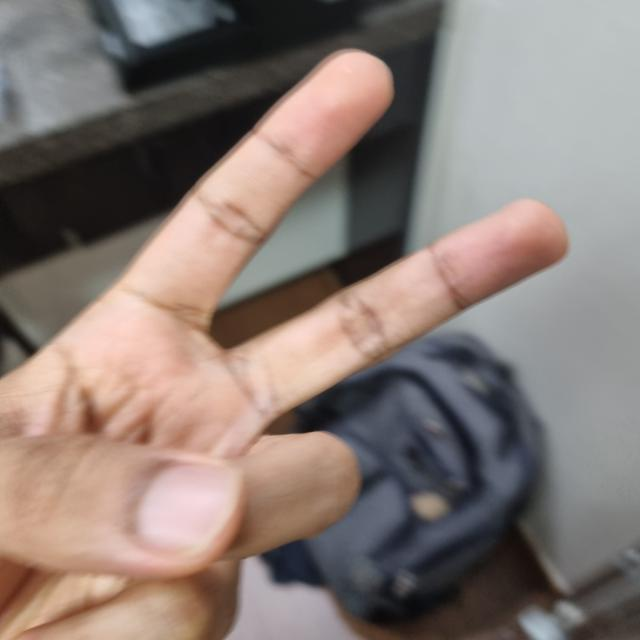Scissors: (0, 53, 560, 639)
